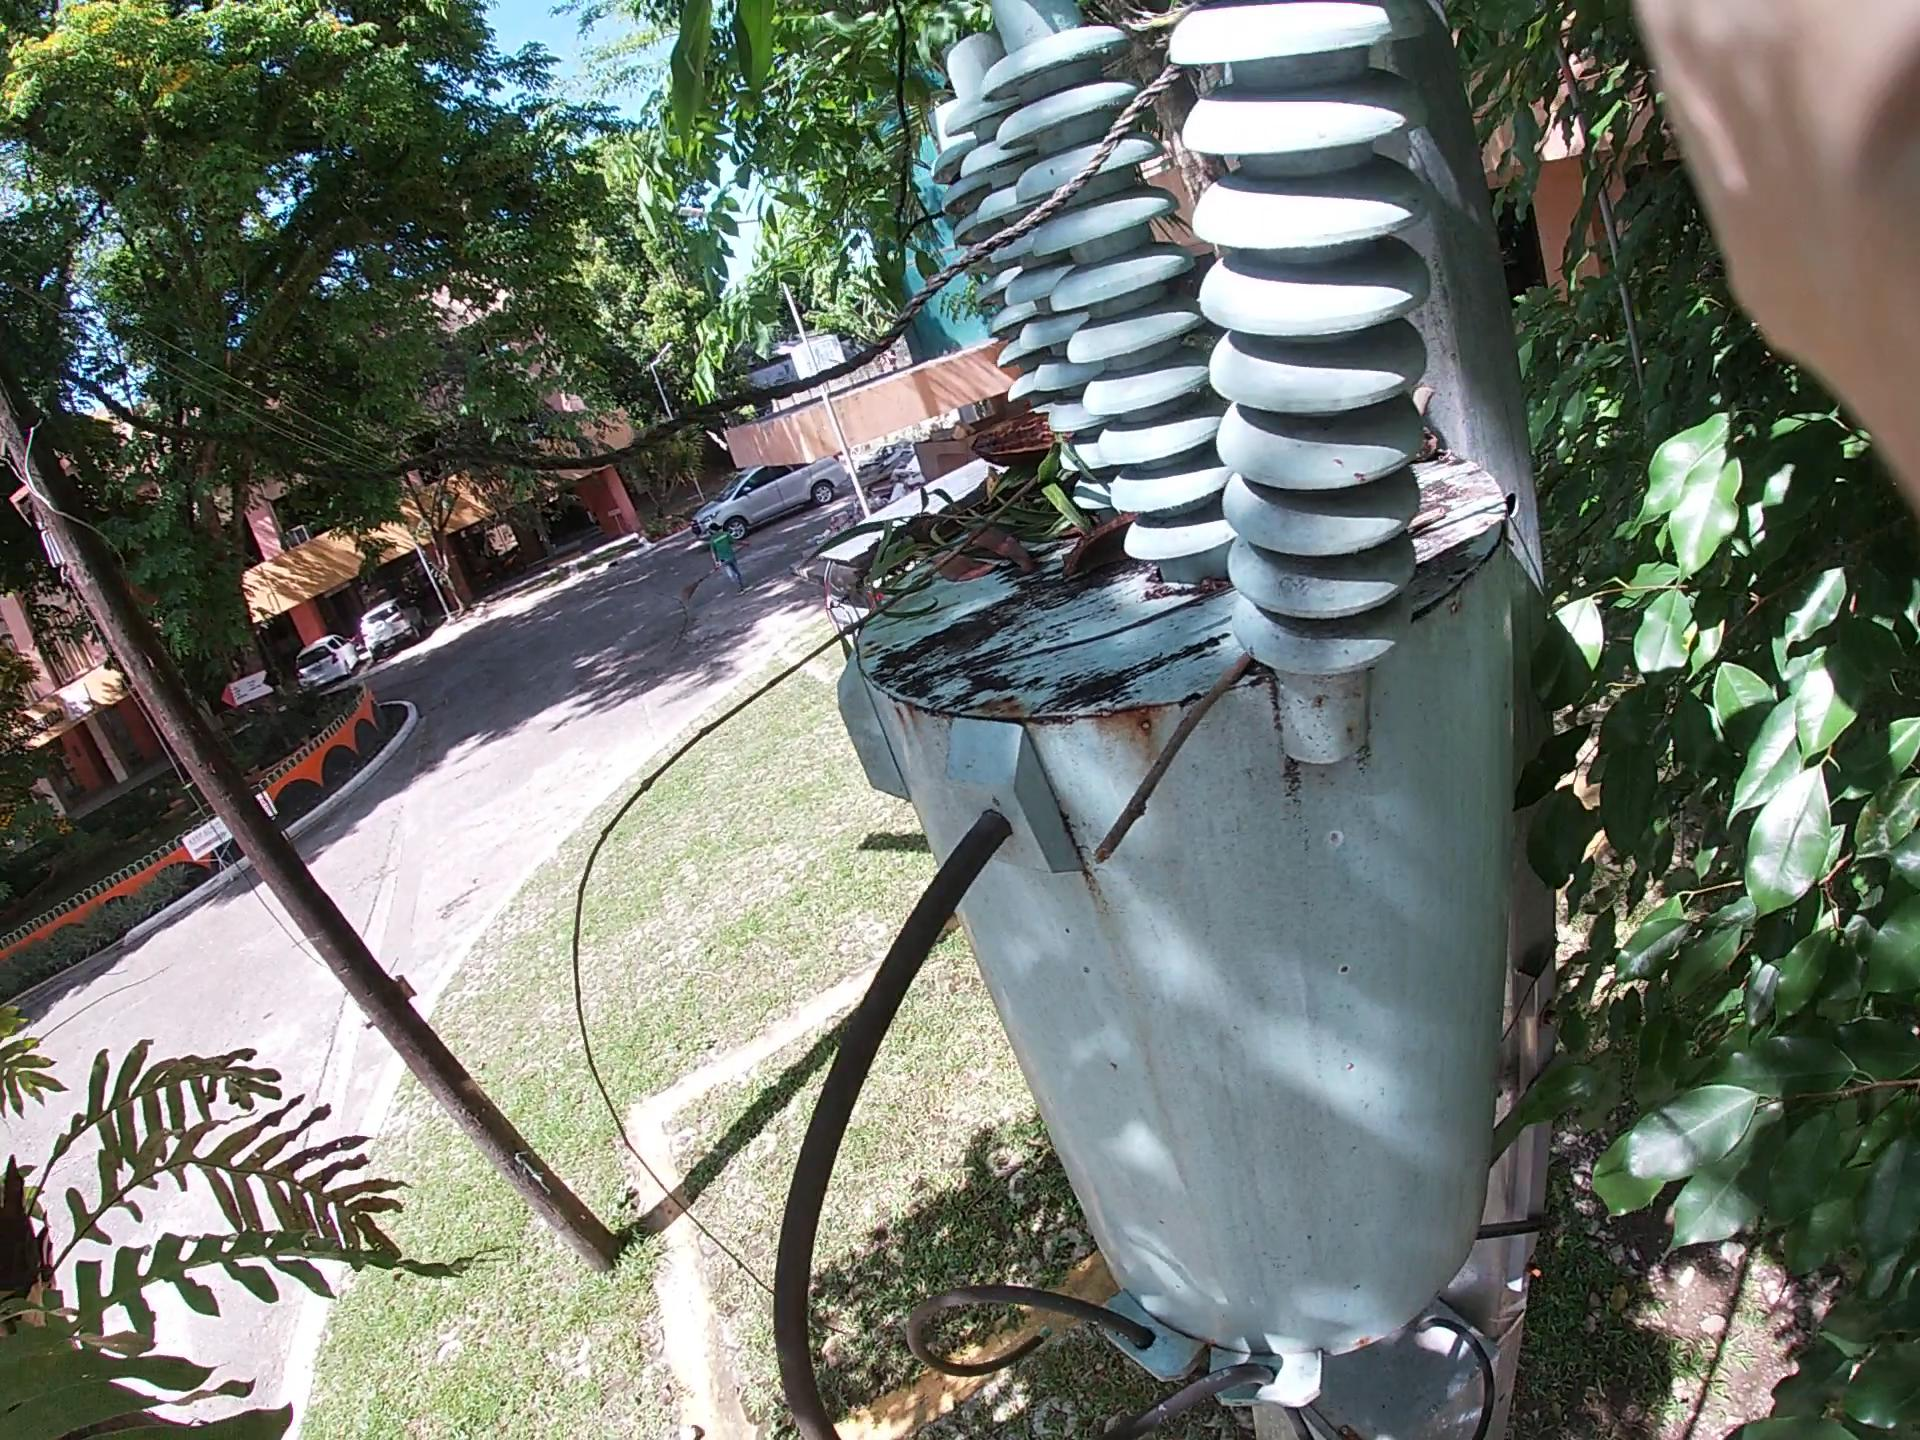branch with leaves: (794, 380, 1090, 649)
leaf: (949, 523, 1033, 616)
mahogany fruit: (931, 342, 1178, 517), (993, 483, 1317, 613)
tree branch: (593, 399, 1073, 980), (1073, 545, 1321, 877), (943, 537, 1392, 703), (1358, 349, 1457, 470)
